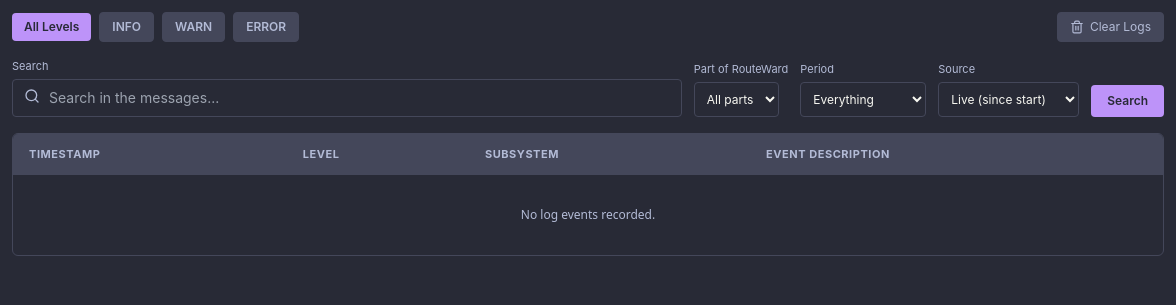
LogsView filters and paging › shows an alert when a daemon file cannot be read
The image size is (1176, 305).
Select "File of 2026-11-22" in the dropdown labelled "Source" at (1009, 99), box x1=938 y1=82 x2=1079 y2=116
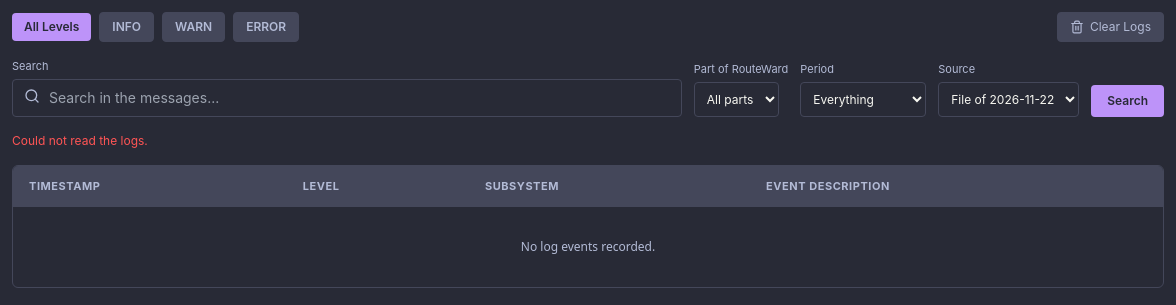
Check: the message reads "Could not read the logs.", box x1=12 y1=132 x2=148 y2=148
